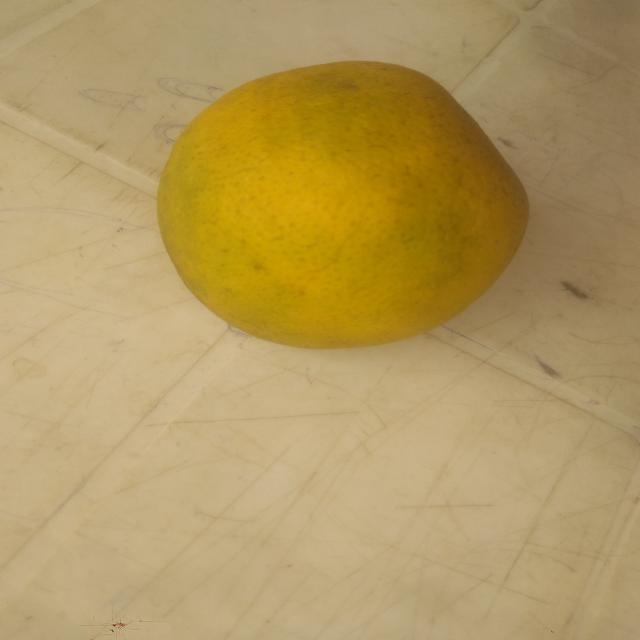agrume: (135, 52, 552, 371)
